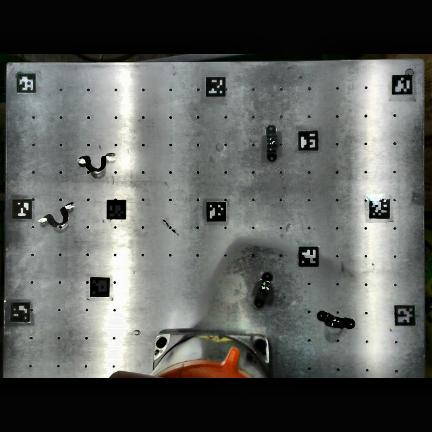clamp: (37, 203, 73, 227), (76, 154, 113, 174), (253, 273, 271, 307), (317, 312, 354, 328), (265, 125, 277, 161)
marker: (394, 304, 415, 325), (12, 198, 32, 219), (370, 198, 390, 218), (299, 246, 319, 266), (298, 130, 318, 150), (206, 75, 226, 95), (10, 300, 29, 321), (207, 201, 226, 222), (392, 75, 412, 94), (17, 73, 36, 93), (107, 200, 126, 219), (90, 278, 109, 296)
